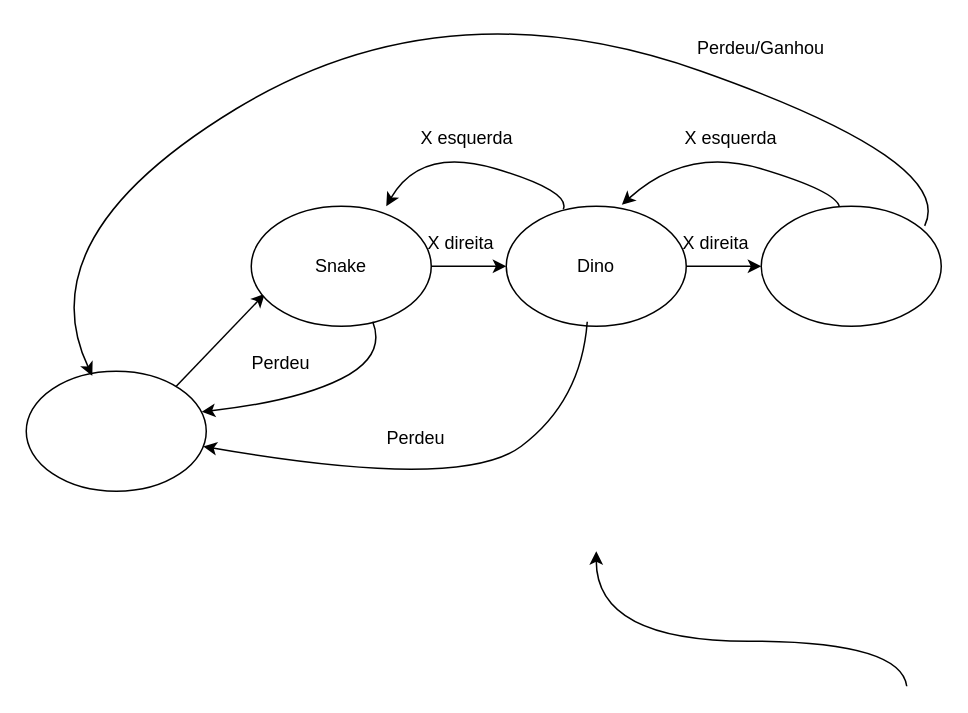
Image size: 968x713. Some labels were removed from this diagram. The shapes that lost their labels are listed below. From the top down, each one's centre as x and y in pixels, then its label:
At point 850,265: "Forca".
At point 115,430: "Menu".
